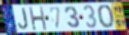3: (83, 3, 99, 31), (64, 6, 81, 30)
7: (49, 6, 62, 30)
H: (28, 6, 47, 31)
J: (18, 7, 30, 31)
O: (96, 4, 115, 30)
